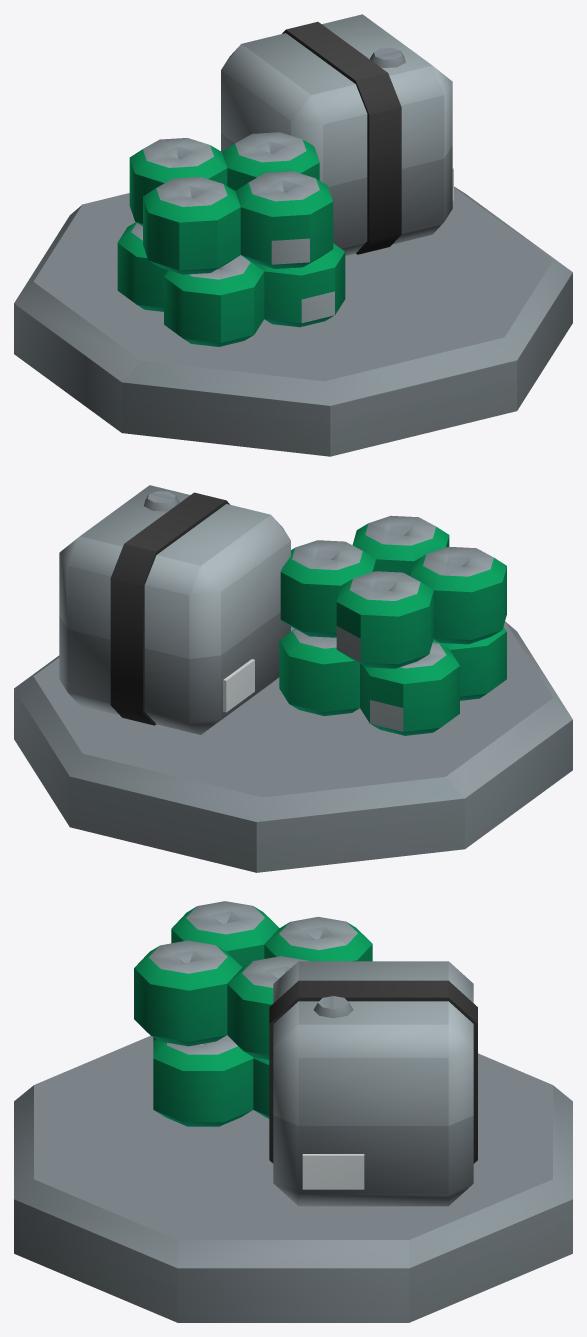
File: cargo-roof-Bv9GcI-S.glb
The picture shows the model from 3 angles, top to bottom: view 1: azimuth 30°, elevation 25°; view 2: azimuth 150°, elevation 25°; view 3: azimuth 270°, elevation 25°; orthographic projection. The views are drawn at different scales.
Visible parts, largest first — view 1: roofmodule_cargo_A; view 2: roofmodule_cargo_A; view 3: roofmodule_cargo_A.
Part boxes in pixels (x1,y1,x2,y2): roofmodule_cargo_A: [14, 14, 572, 456]; roofmodule_cargo_A: [14, 485, 572, 872]; roofmodule_cargo_A: [14, 901, 572, 1322].
Bounding box in the file's own units: 1.4 × 0.72 × 1.4.
1 material, 1 textured.
